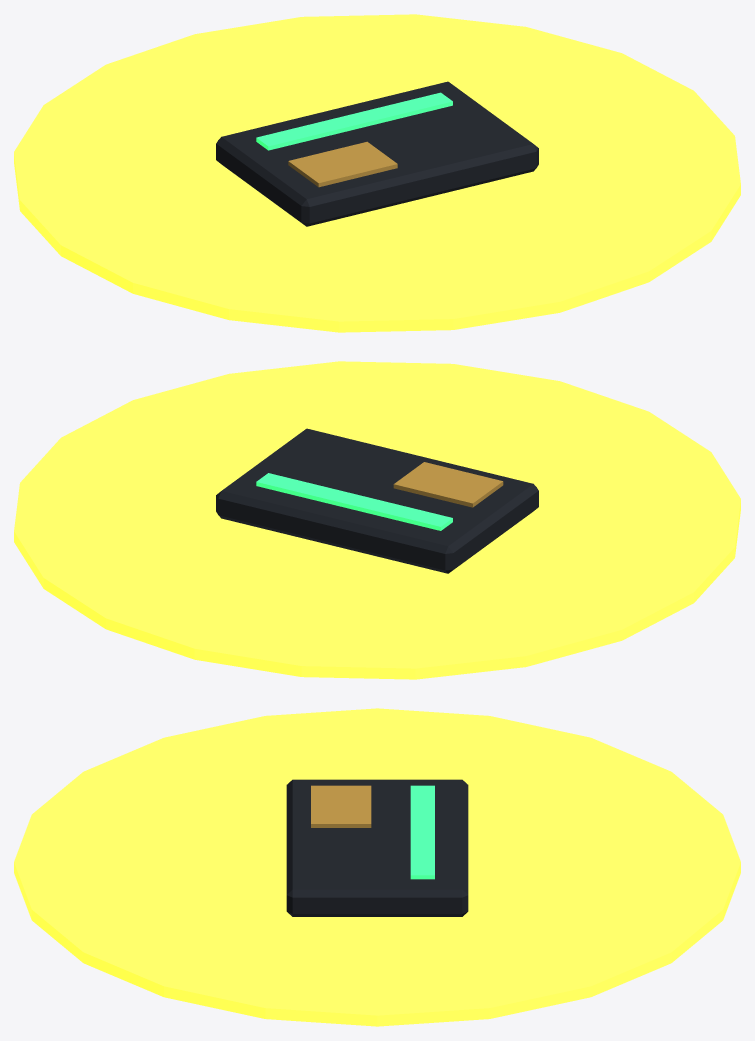
File: keycard.glb
3 views of the same model, one above another, from view 1: azimuth 30°, elevation 25°; view 2: azimuth 150°, elevation 25°; view 3: azimuth 270°, elevation 25° (orthographic).
Parts seen in each view (by area): view 1: keycard; view 2: keycard; view 3: keycard.
Boxes of the visible parts, bbox=[...] form: keycard: bbox=[14, 14, 740, 332]; keycard: bbox=[14, 361, 740, 679]; keycard: bbox=[14, 708, 740, 1026].
Bounding box in the file's own units: 0.24 × 0.0155 × 0.24.
